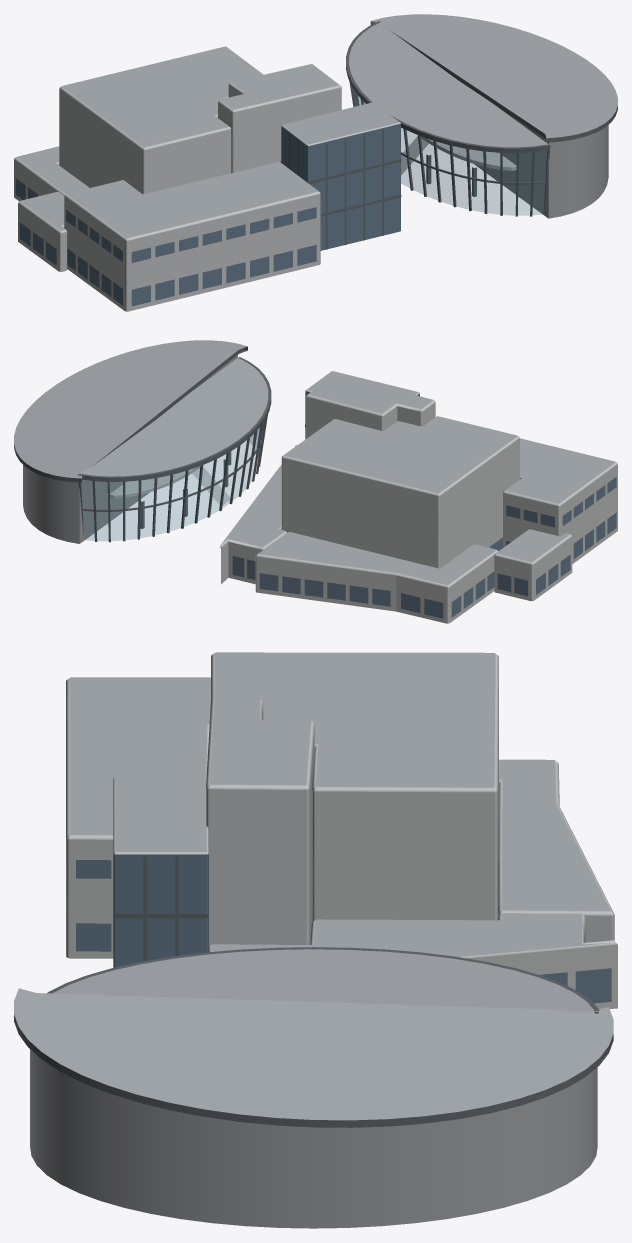
Rendered from amsterdam-van-gogh-museum.glb.
The picture shows the model from 3 angles, top to bottom: view 1: azimuth 30°, elevation 25°; view 2: azimuth 150°, elevation 25°; view 3: azimuth 270°, elevation 25°; orthographic projection. The views are drawn at different scales.
Visible parts, largest first — view 1: Van Gogh Museum; view 2: Van Gogh Museum; view 3: Van Gogh Museum.
Boxes of the visible parts, x1,y1,x2,y2 form: Van Gogh Museum: [14, 14, 617, 311]; Van Gogh Museum: [14, 340, 617, 623]; Van Gogh Museum: [14, 652, 617, 1228].
Size of the model in its own units: 102 by 24 by 58.7.
